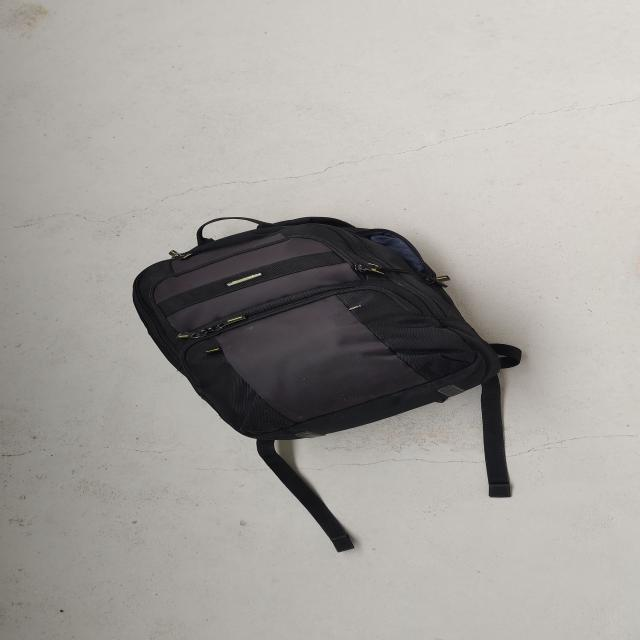backpack: (120, 206, 516, 449)
